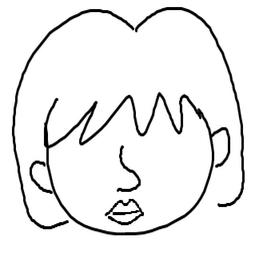cupid_mouth: (99, 196, 148, 229)
ear: (29, 157, 61, 206), (209, 119, 236, 173)
nose: (104, 140, 143, 197)
